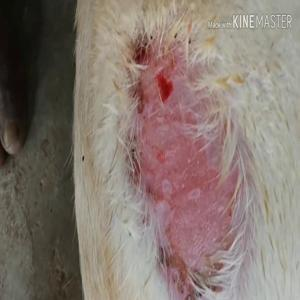skin_lesions: (120, 29, 255, 284)
